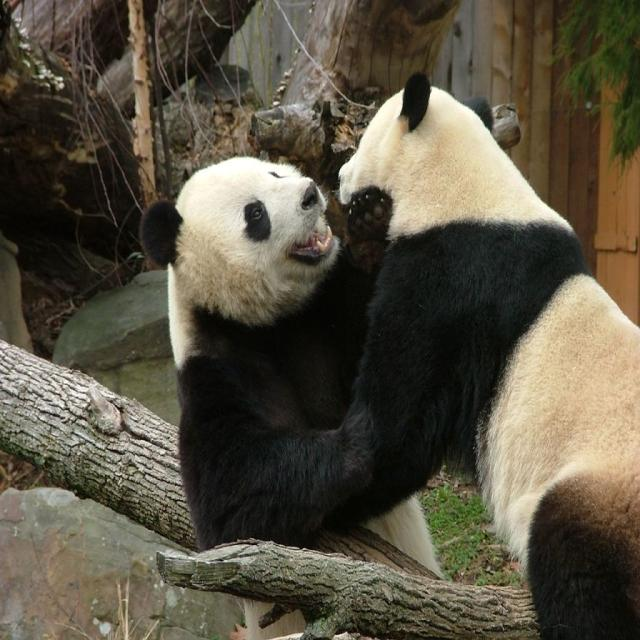panda: (327, 66, 640, 639), (139, 153, 444, 639)
